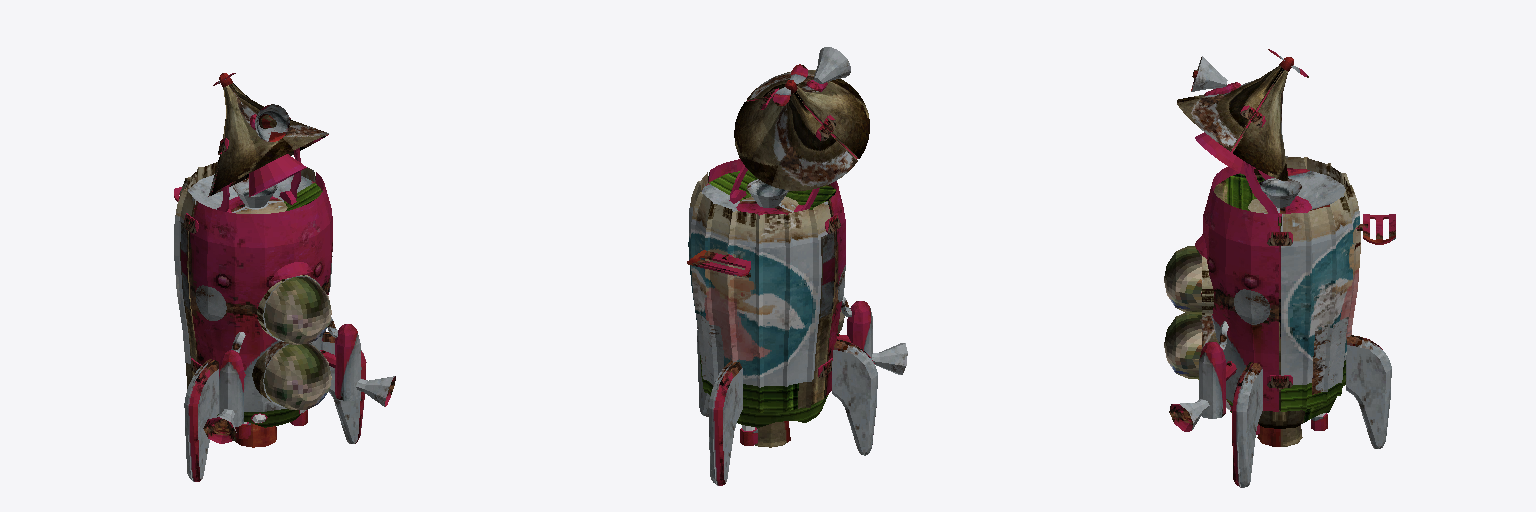
The picture shows the model from 3 angles: view 1: azimuth 30°, elevation 25°; view 2: azimuth 150°, elevation 25°; view 3: azimuth 270°, elevation 25°; orthographic projection.
Visible parts, largest first — view 1: polygon0, polygon1, polygon3; view 2: polygon0, polygon1; view 3: polygon0, polygon1, polygon3.
Part boxes in pixels (bbox=[...]): polygon0: bbox=[174, 83, 366, 481]; polygon1: bbox=[174, 73, 395, 447]; polygon3: bbox=[264, 277, 331, 409]; polygon0: bbox=[688, 70, 877, 485]; polygon1: bbox=[687, 47, 907, 447]; polygon0: bbox=[1177, 65, 1391, 487]; polygon1: bbox=[1169, 49, 1395, 446]; polygon3: bbox=[1164, 246, 1201, 379].
Bounding box in the file's own units: 9.83 × 19 × 10.33.
Materials: 5 (2 with a texture image).